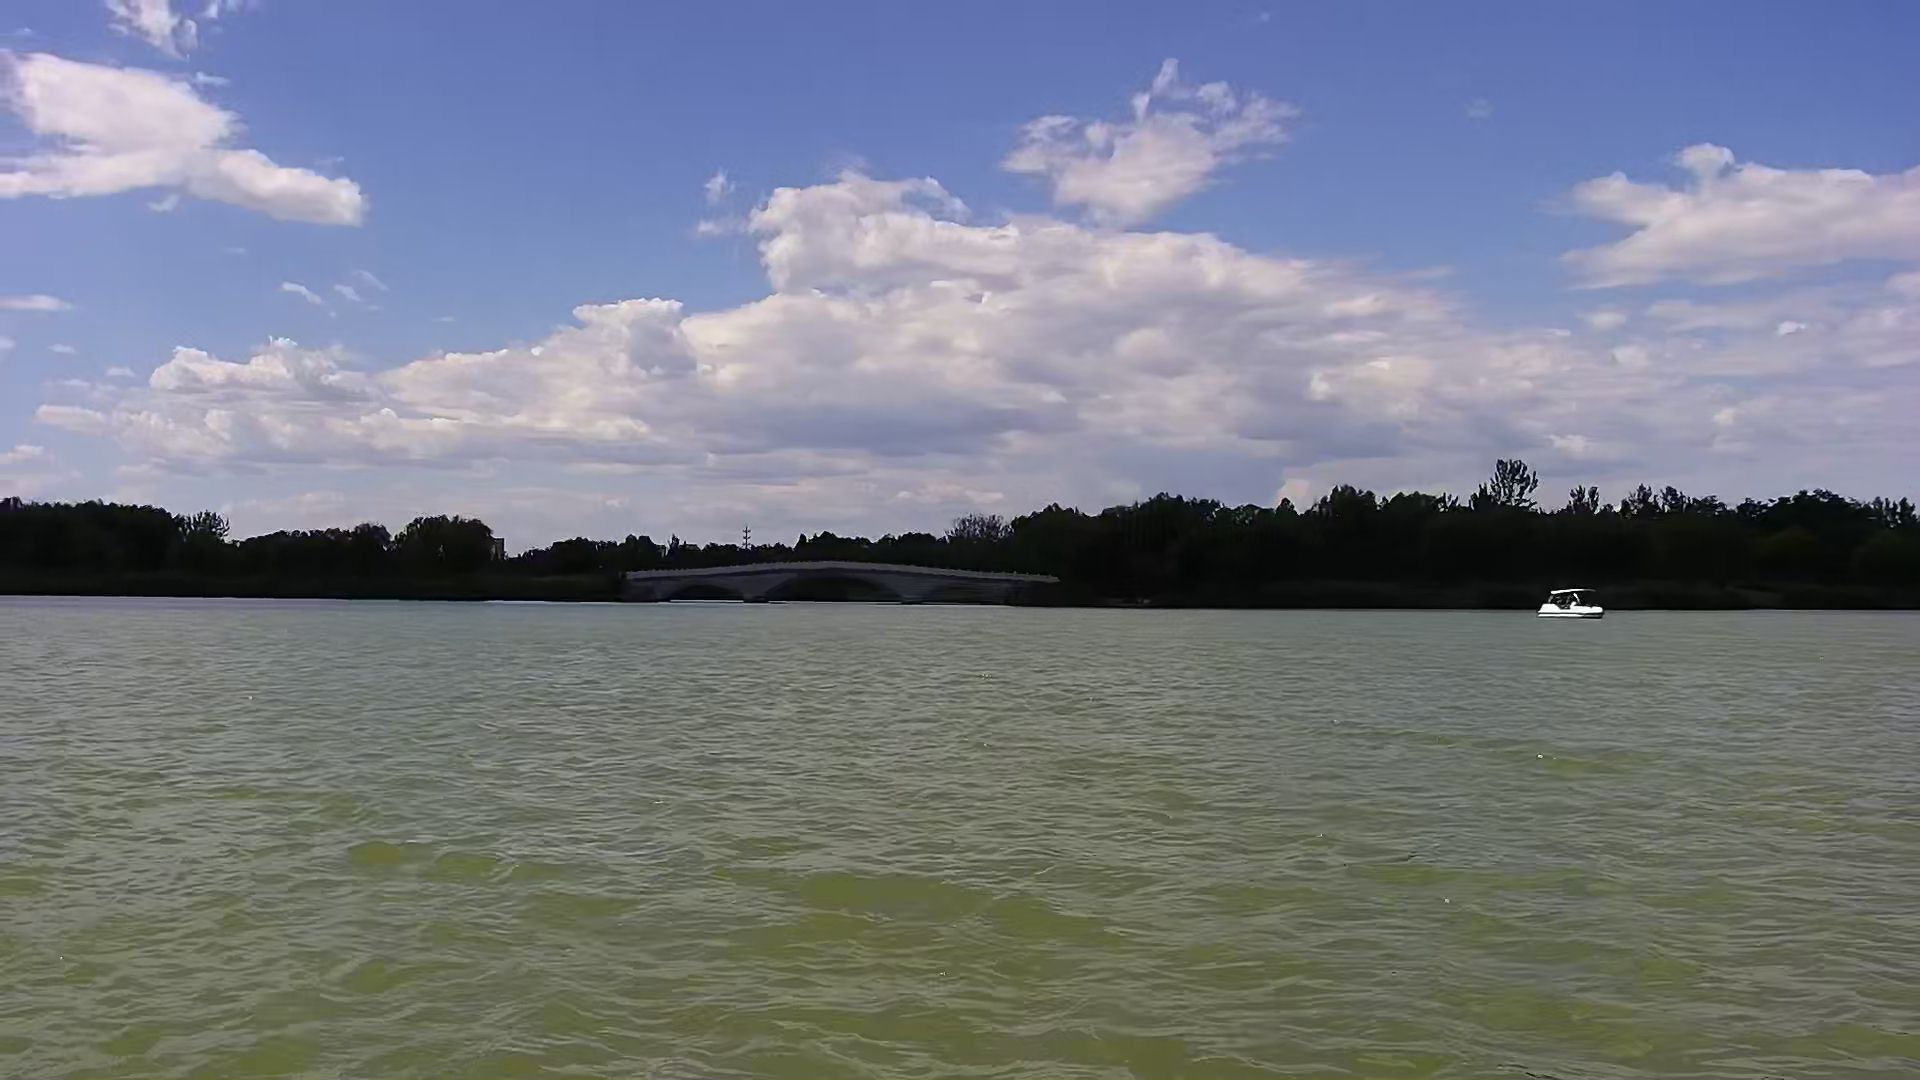boat: (1536, 582, 1614, 622)
bridge: (608, 553, 1048, 611)
